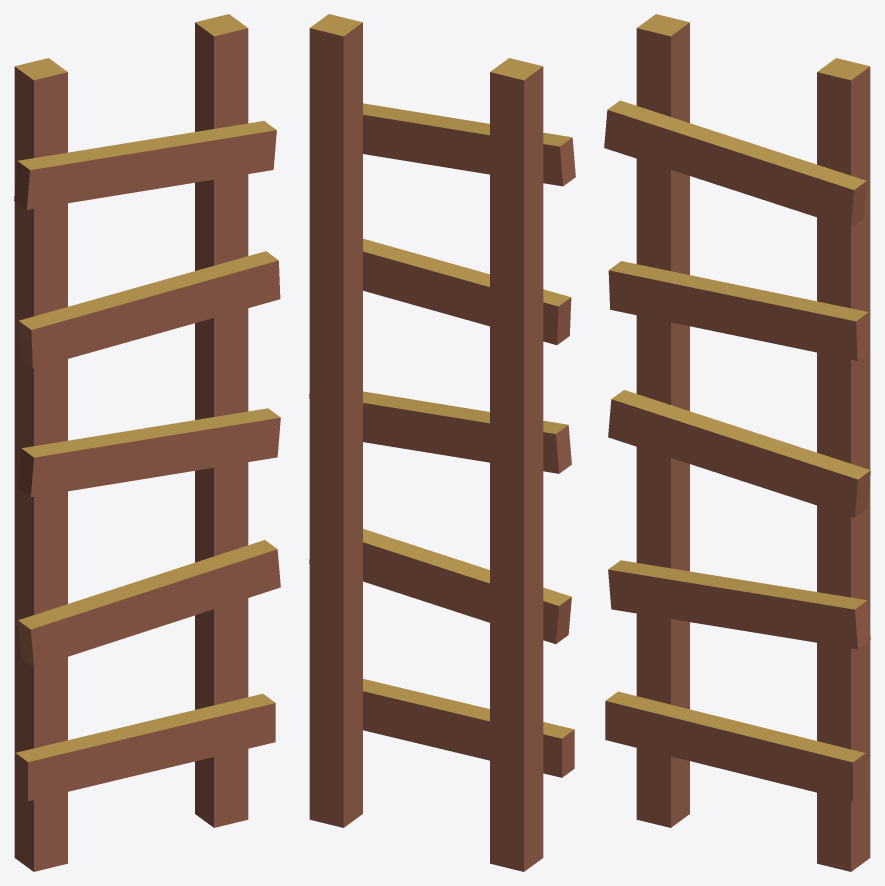
The model's file is TB_D_Prop_Ladder_B.FBX.
3 views of the same model, side by side, from view 1: azimuth 30°, elevation 25°; view 2: azimuth 150°, elevation 25°; view 3: azimuth 330°, elevation 25° (orthographic).
Parts seen in each view (by area): view 1: TB_D_Prop_Ladder_B; view 2: TB_D_Prop_Ladder_B; view 3: TB_D_Prop_Ladder_B.
Boxes of the visible parts, x1,y1,x2,y2 form: TB_D_Prop_Ladder_B: (14,14,280,871); TB_D_Prop_Ladder_B: (309,14,575,871); TB_D_Prop_Ladder_B: (604,14,870,871).
Size of the model in its own units: 1.13 by 3.38 by 0.248.
